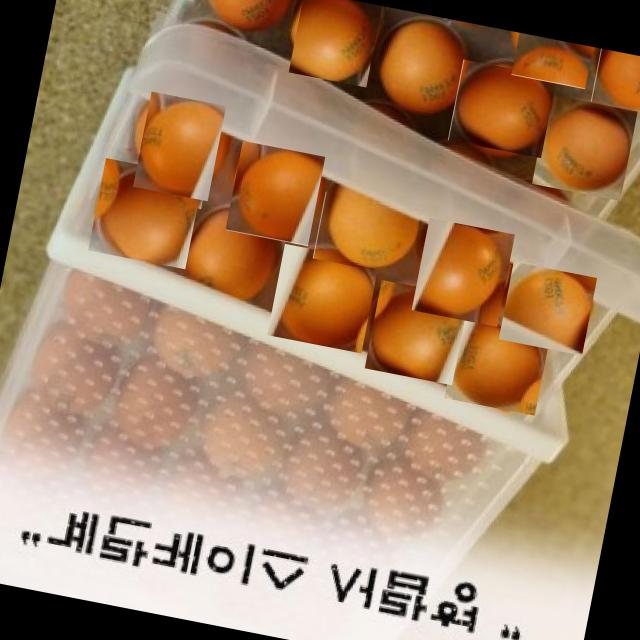eggs: (89, 156, 205, 272), (267, 243, 378, 354), (531, 95, 638, 202), (409, 219, 516, 326), (180, 208, 287, 314), (364, 280, 469, 385), (450, 56, 554, 160), (225, 142, 328, 245), (446, 316, 548, 418), (129, 96, 231, 198), (373, 23, 475, 118), (497, 262, 597, 356), (313, 192, 421, 276), (287, 0, 384, 87), (510, 32, 593, 90), (590, 48, 640, 119)
